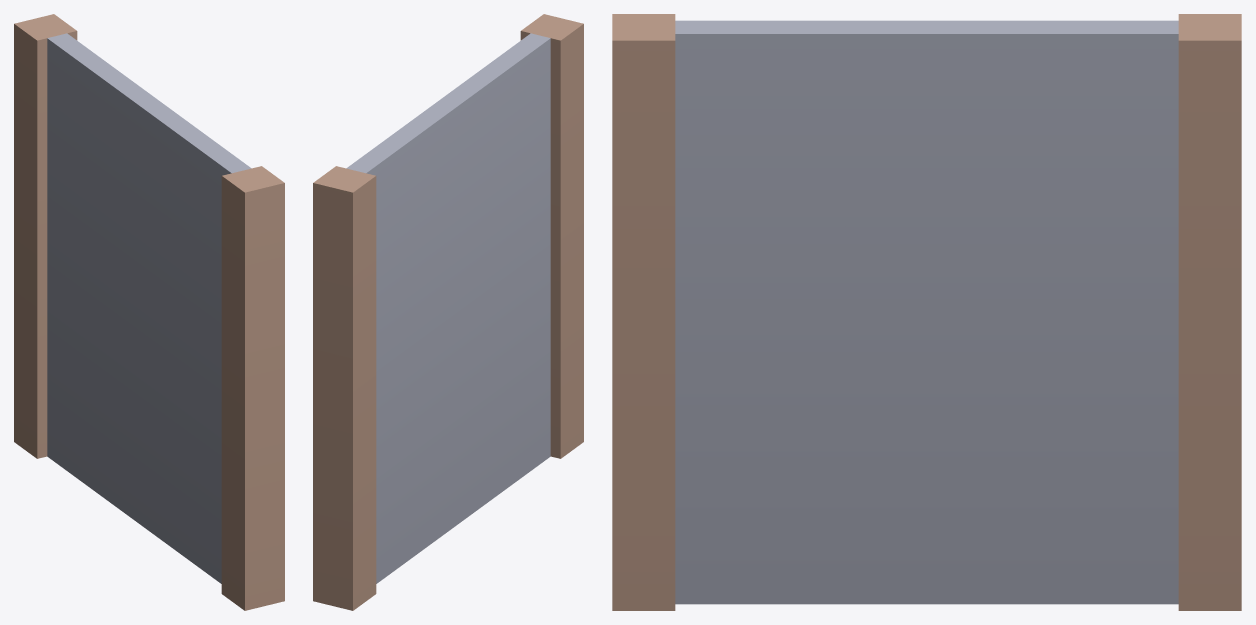
File: wall.glb
3 renders of one model, left to right at view 1: azimuth 30°, elevation 25°; view 2: azimuth 150°, elevation 25°; view 3: azimuth 270°, elevation 25°, orthographic. The views are drawn at different scales.
Parts seen in each view (by area): view 1: wall; view 2: wall; view 3: wall.
Part boxes in pixels (bbox=[...]): wall: bbox=[14, 14, 284, 610]; wall: bbox=[313, 14, 583, 610]; wall: bbox=[612, 14, 1241, 610].
Bounding box in the file's own units: 0.1 × 1 × 1.
